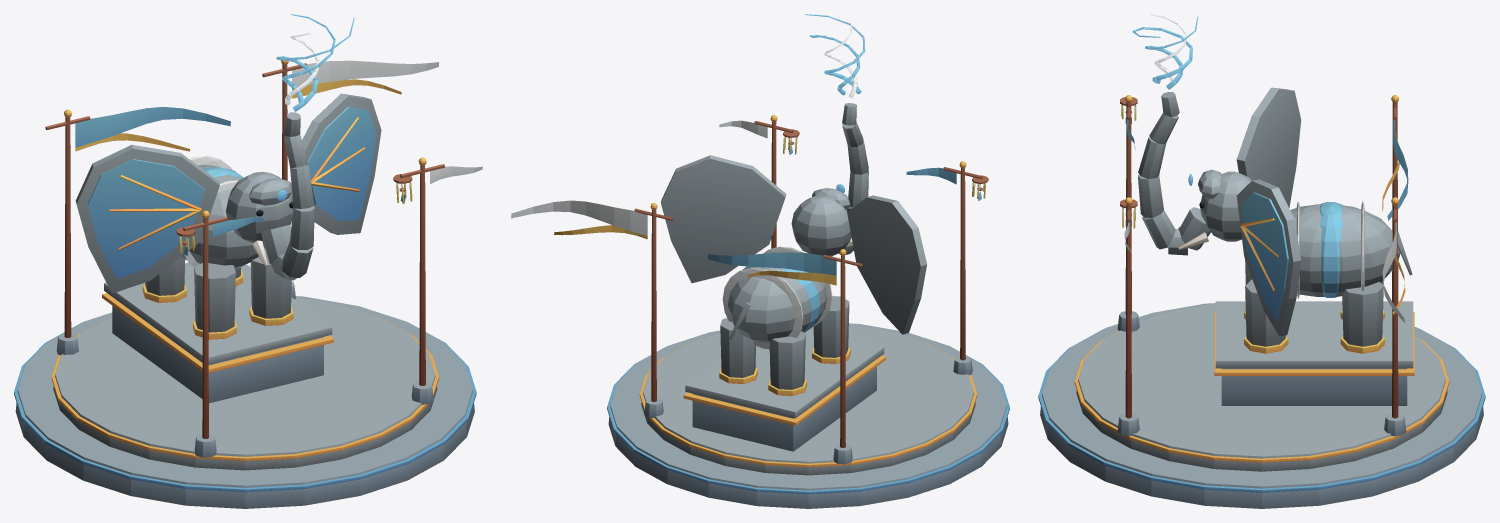
The model's file is vayuketh_shrine.glb.
3 views of the same model, side by side, from view 1: azimuth 30°, elevation 25°; view 2: azimuth 150°, elevation 25°; view 3: azimuth 270°, elevation 25° (orthographic). The views are drawn at different scales.
Visible parts, largest first — view 1: vayuketh_shrine; view 2: vayuketh_shrine; view 3: vayuketh_shrine.
Boxes of the visible parts, box(x1,y1,x2,y2) form: vayuketh_shrine: box(14, 14, 482, 508); vayuketh_shrine: box(511, 14, 1009, 508); vayuketh_shrine: box(1038, 14, 1485, 508).
Bounding box in the file's own units: 12.94 × 11.08 × 11.08.
Materials: 3 (3 with a texture image).
